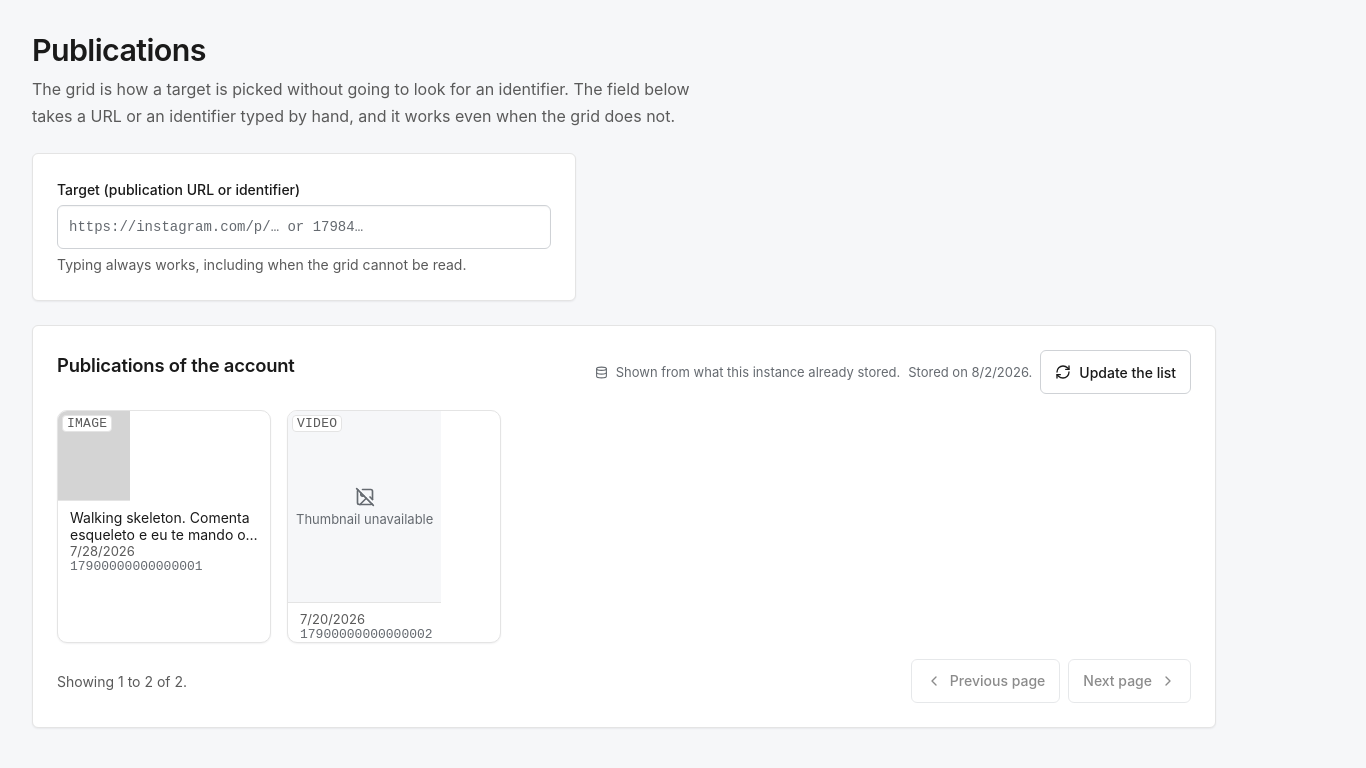
Test: REQ-069: the publication grid (criterion 28) › puts the chosen publication's identifier in the target field
Click the button "Thumbnail unavailable VIDEO 7/20/2026 17900000000000002".
click(394, 527)  # box [288,412,500,642]
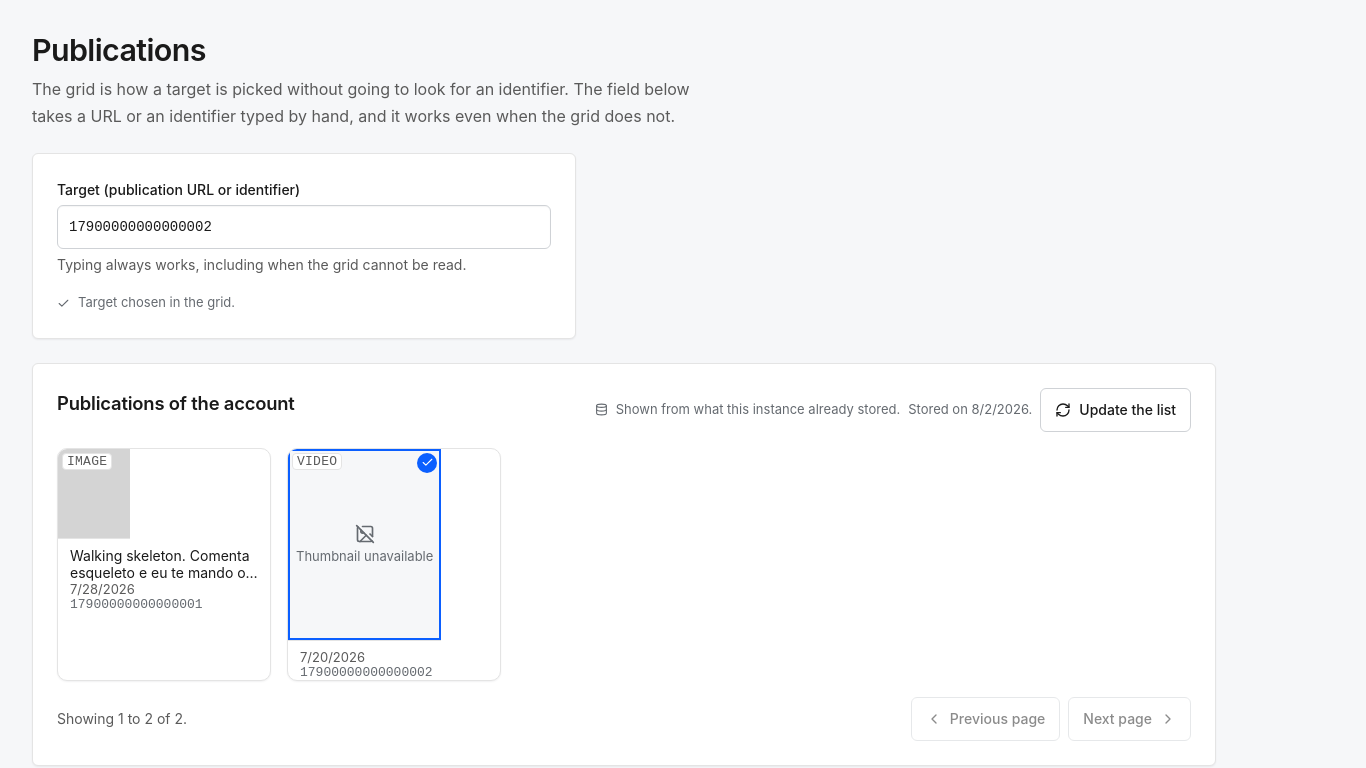
Expected: the field labelled "Target (publication URL or identifier)" holds "17900000000000002", [57,205,551,249]
Expected: the text "Target chosen in the grid." is shown, [57,294,235,310]
